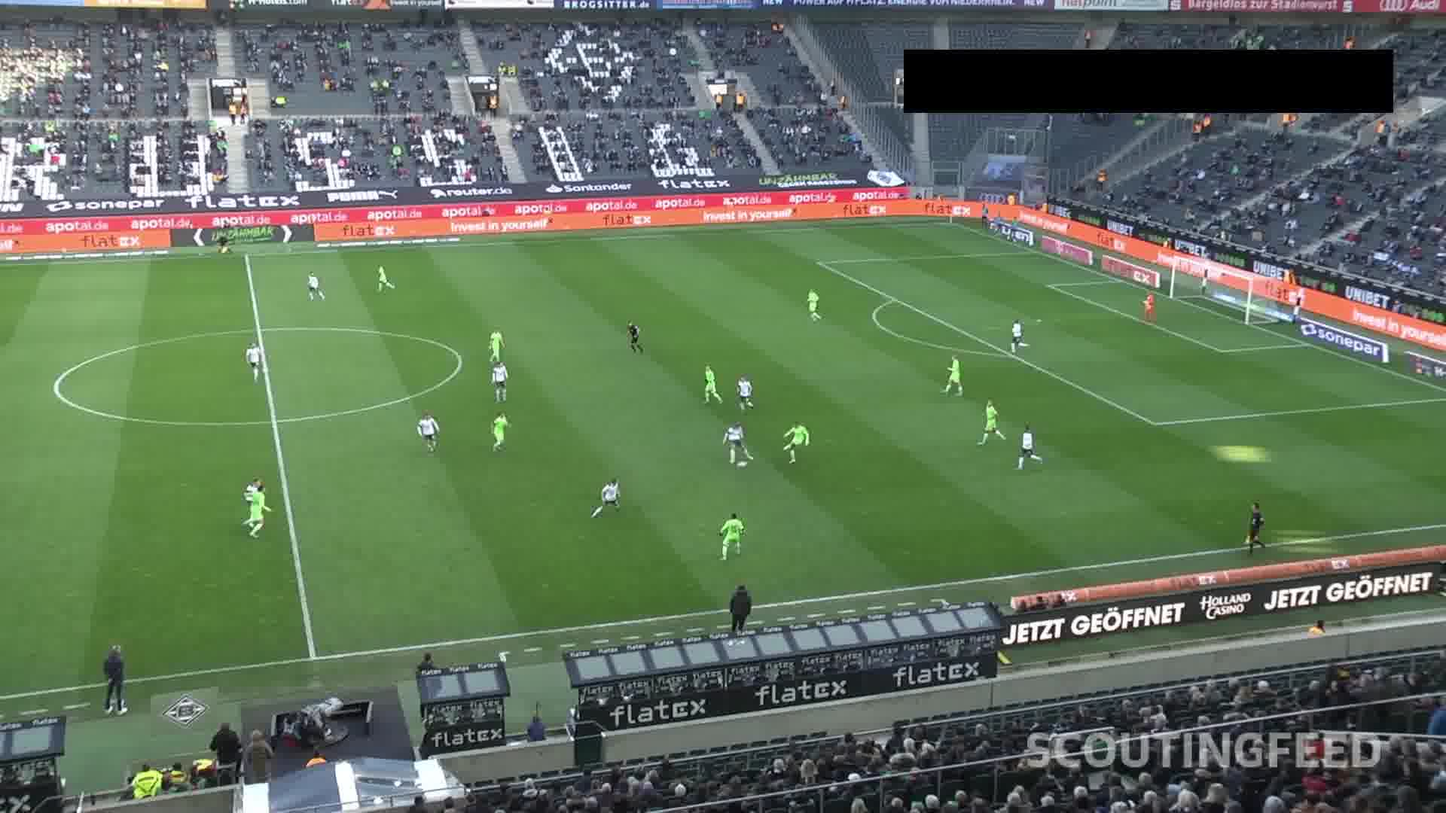ball: (737, 458, 749, 470)
coach_staff: (99, 627, 134, 733), (714, 580, 756, 645), (410, 652, 446, 715)
player: (709, 509, 754, 560), (589, 474, 626, 519), (485, 409, 515, 459), (774, 419, 808, 462), (719, 417, 749, 465), (978, 396, 1007, 444), (417, 405, 441, 457), (729, 366, 756, 410), (1014, 427, 1042, 469), (800, 284, 827, 327), (486, 363, 516, 401), (1003, 314, 1031, 354), (255, 482, 275, 537), (943, 354, 968, 396), (697, 361, 720, 405), (479, 326, 506, 361), (369, 262, 395, 297), (303, 271, 329, 304), (246, 339, 265, 384), (241, 474, 257, 521)
referee: (619, 314, 649, 356), (1241, 503, 1264, 555), (1136, 286, 1159, 332), (210, 228, 236, 258)
